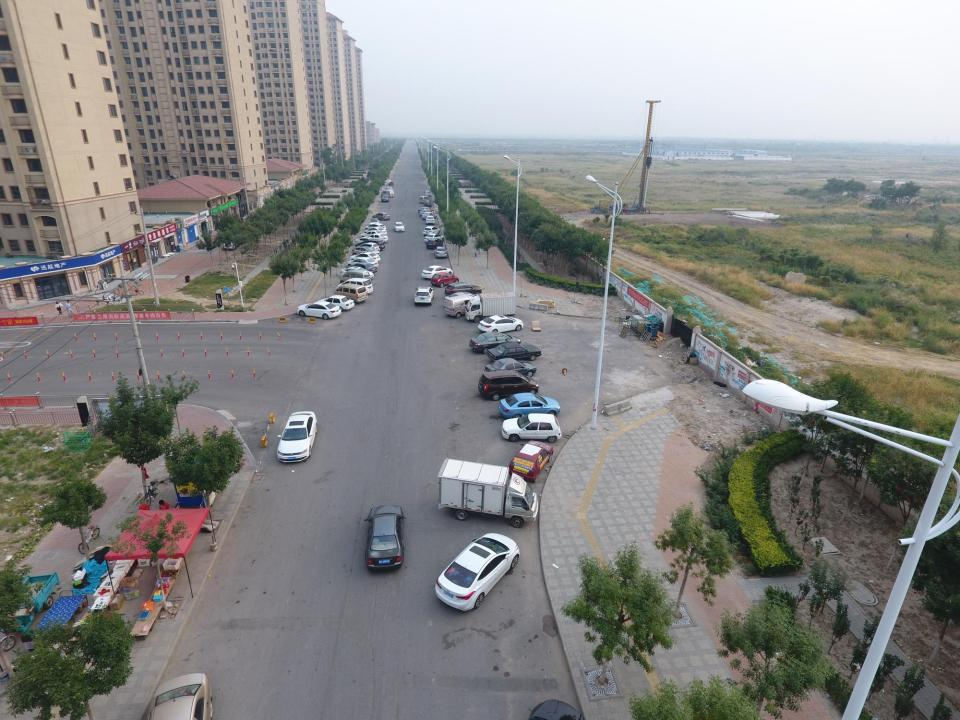car: (435, 533, 520, 611), (147, 673, 213, 720), (364, 505, 406, 570), (277, 412, 317, 462), (478, 369, 538, 400), (509, 441, 553, 482), (501, 413, 562, 442), (498, 393, 560, 421), (486, 342, 542, 363), (469, 332, 521, 354), (484, 357, 536, 377), (478, 315, 524, 334), (297, 301, 340, 320), (317, 294, 354, 312), (444, 282, 482, 299), (340, 266, 374, 280), (430, 272, 459, 287), (421, 265, 452, 279), (346, 257, 378, 269), (414, 286, 434, 305), (346, 262, 377, 274), (349, 252, 381, 263), (356, 239, 385, 251), (352, 246, 380, 258), (355, 237, 382, 247), (360, 234, 388, 243), (356, 243, 380, 252), (364, 227, 387, 236), (424, 233, 444, 243), (360, 230, 384, 238), (426, 238, 443, 249), (223, 239, 240, 250), (423, 226, 440, 236), (434, 246, 448, 257), (365, 224, 386, 231), (372, 213, 390, 220), (421, 212, 437, 219), (418, 207, 433, 214), (394, 222, 404, 232), (368, 218, 379, 227), (418, 210, 434, 216), (425, 216, 435, 225), (381, 194, 389, 202), (424, 200, 432, 207), (424, 190, 431, 196), (386, 186, 392, 192)
truck: (437, 458, 538, 528), (464, 292, 516, 322)
van: (443, 294, 481, 318), (334, 283, 368, 304), (336, 278, 374, 296), (339, 269, 371, 285), (418, 196, 432, 204), (380, 190, 394, 197)
